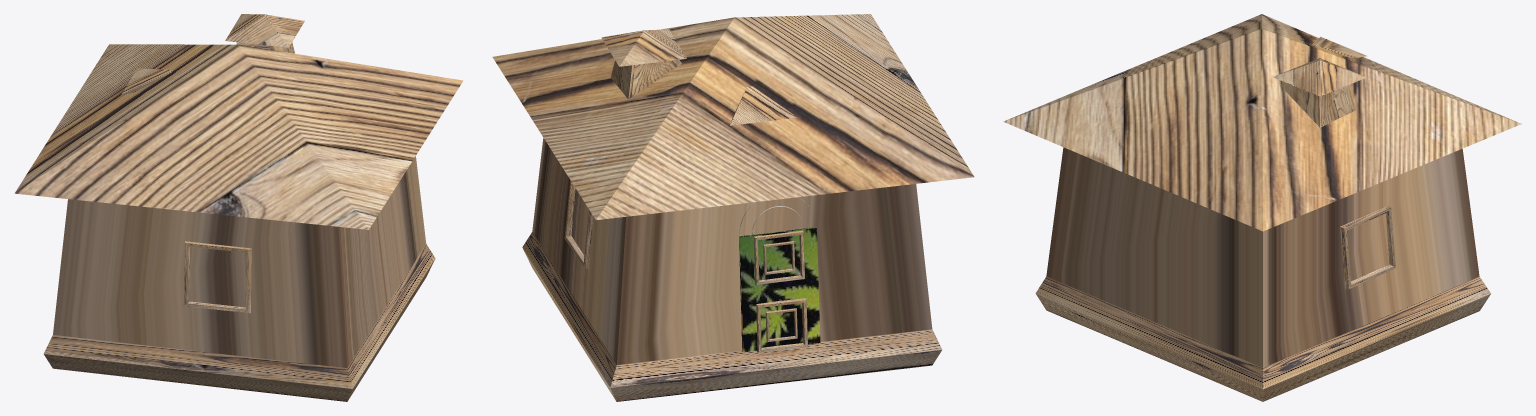
3 renders of one model, left to right at view 1: azimuth 30°, elevation 25°; view 2: azimuth 150°, elevation 25°; view 3: azimuth 270°, elevation 25°, orthographic. The views are drawn at different scales.
Visible parts, largest first — view 1: house; view 2: house, door; view 3: house.
Boxes of the visible parts, <box> form: house: <box>14,14,462,401</box>; house: <box>492,14,974,401</box>; door: <box>739,227,820,352</box>; house: <box>1003,14,1521,401</box>.
Bounding box in the file's own units: 1.45 × 0.8597 × 1.44.
Materials: 2 (2 with a texture image).
